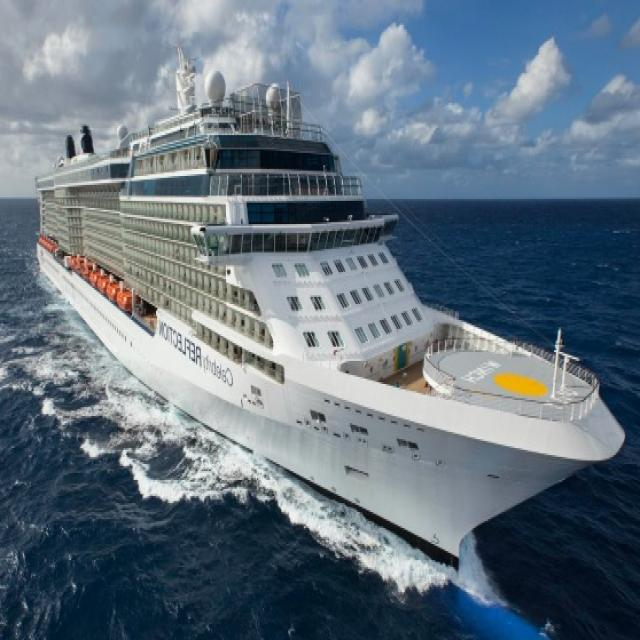passenger ship: (28, 60, 620, 586)
